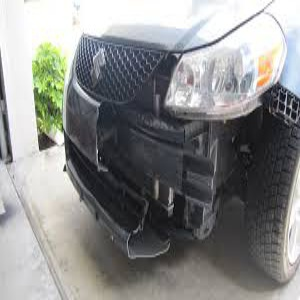bumper: (72, 106, 232, 262)
